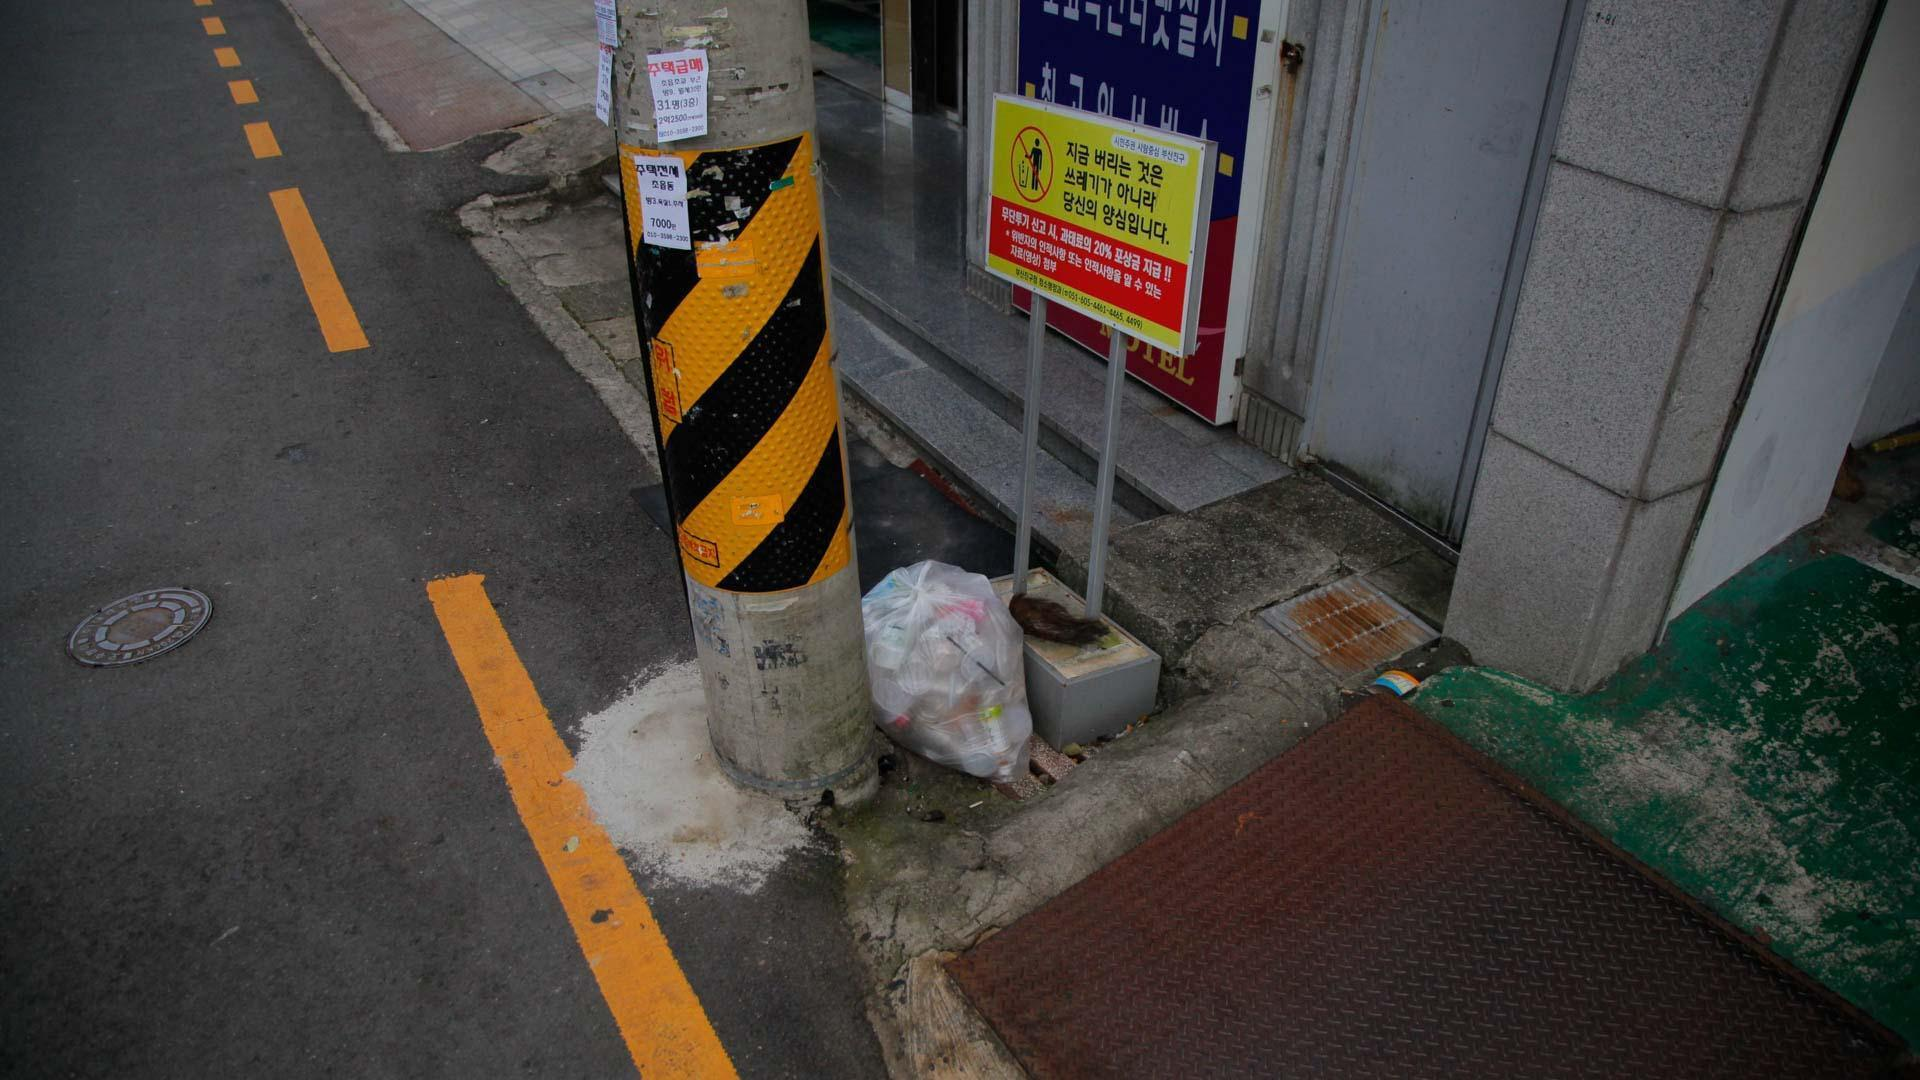white_bag: (832, 553, 1054, 795)
